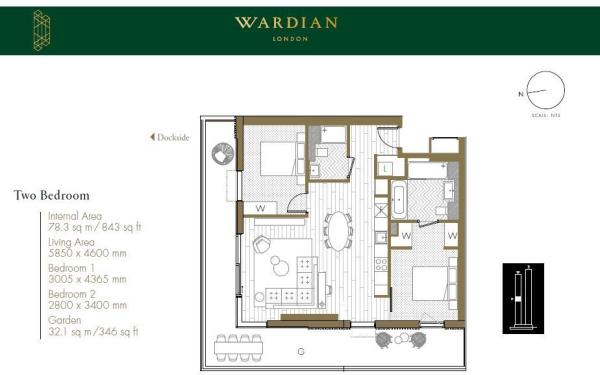GardenMeasurements: (41, 312, 159, 351)
GrossArea: (42, 209, 154, 238)
